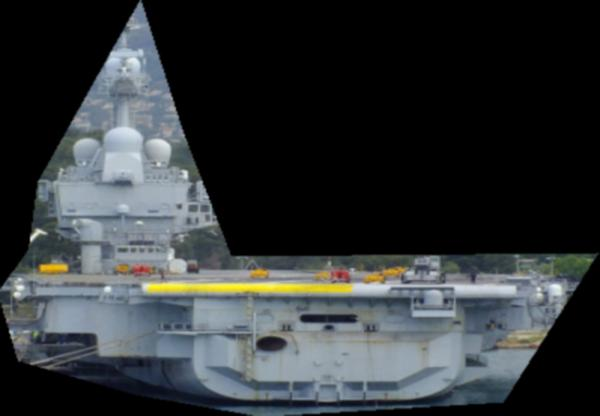Aircraft Carrier: (0, 0, 599, 416)
